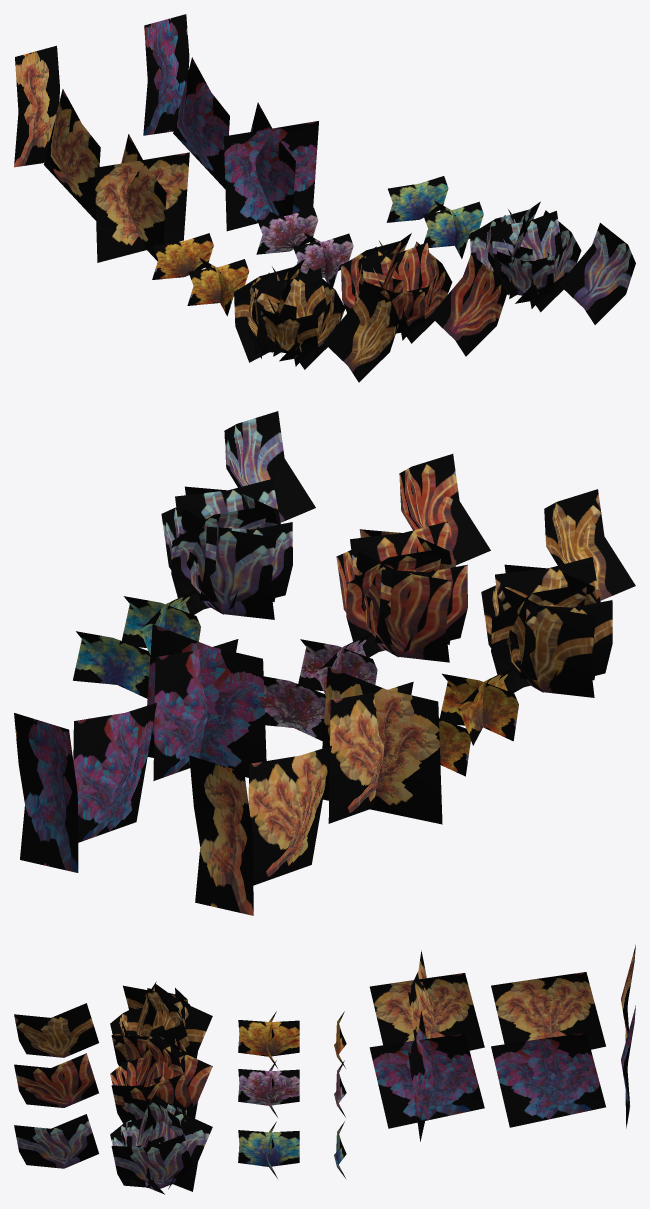
File: AllCorals.fbx
The picture shows the model from 3 angles, top to bottom: view 1: azimuth 30°, elevation 25°; view 2: azimuth 150°, elevation 25°; view 3: azimuth 270°, elevation 25°; orthographic projection. The views are drawn at different scales.
Visible parts, largest first — view 1: soft coral 1_Yellow, soft coral 1_purple, anoneme_yellow, anoneme_Blue, anoneme_Red, soft coral 1 Single_purple, soft coral 1 Single_Yellow, anoneme Single_Red, anoneme Single_yellow, anoneme Single_Blue, soft coral 1 Sheet_Yellow, soft coral 1 Sheet_purple (+6 smaller); view 2: soft coral 1_Yellow, anoneme_yellow, soft coral 1_purple, anoneme_Blue, anoneme_Red, soft coral 1 Sheet_Yellow, soft coral 1 Sheet_purple, soft coral 1 Single_Yellow, soft coral 1 Single_purple, anoneme Single_yellow, anoneme Single_Red, anoneme Single_Blue (+6 smaller); view 3: soft coral 1_purple, soft coral 1 Sheet_purple, anoneme_Blue, soft coral 1_Yellow, soft coral 1 Sheet_Yellow, anoneme_Red, anoneme_yellow, anoneme Single_Blue, anoneme Single_yellow, anoneme Single_Red, soft coral 2_purple, soft coral 2_Blue (+3 smaller).
Boxes of the visible parts, left/top/right/bottom form: soft coral 1_Yellow: left=94, top=134, right=189, bottom=262; soft coral 1_purple: left=224, top=102, right=318, bottom=231; anoneme_yellow: left=234, top=259, right=345, bottom=369; anoneme_Blue: left=470, top=201, right=581, bottom=312; anoneme_Red: left=341, top=233, right=452, bottom=343; soft coral 1 Single_purple: left=143, top=14, right=189, bottom=135; soft coral 1 Single_Yellow: left=14, top=45, right=59, bottom=167; anoneme Single_Red: left=430, top=254, right=506, bottom=356; anoneme Single_yellow: left=323, top=280, right=399, bottom=382; anoneme Single_Blue: left=559, top=223, right=635, bottom=324; soft coral 1 Sheet_Yellow: left=44, top=89, right=100, bottom=220; soft coral 1 Sheet_purple: left=173, top=57, right=229, bottom=188; soft coral 1_Yellow: left=322, top=667, right=442, bottom=824; anoneme_yellow: left=481, top=557, right=612, bottom=697; soft coral 1_purple: left=147, top=624, right=266, bottom=780; anoneme_Blue: left=161, top=479, right=292, bottom=619; anoneme_Red: left=336, top=521, right=467, bottom=662; soft coral 1 Sheet_Yellow: left=248, top=745, right=331, bottom=885; soft coral 1 Sheet_purple: left=73, top=703, right=156, bottom=842; soft coral 1 Single_Yellow: left=189, top=755, right=253, bottom=915; soft coral 1 Single_purple: left=14, top=713, right=78, bottom=872; anoneme Single_yellow: left=544, top=489, right=635, bottom=600; anoneme Single_Red: left=399, top=454, right=490, bottom=565; anoneme Single_Blue: left=224, top=411, right=315, bottom=522; soft coral 1_purple: left=369, top=1011, right=484, bottom=1141; soft coral 1 Sheet_purple: left=491, top=1032, right=605, bottom=1127; anoneme_Blue: left=110, top=1092, right=212, bottom=1194; soft coral 1_Yellow: left=369, top=950, right=484, bottom=1050; soft coral 1 Sheet_Yellow: left=491, top=972, right=605, bottom=1049; anoneme_Red: left=110, top=1032, right=212, bottom=1123; anoneme_yellow: left=110, top=981, right=212, bottom=1066; anoneme Single_Blue: left=14, top=1114, right=98, bottom=1168; anoneme Single_yellow: left=14, top=1003, right=98, bottom=1057; anoneme Single_Red: left=14, top=1053, right=98, bottom=1107; soft coral 2_purple: left=238, top=1060, right=299, bottom=1117; soft coral 2_Blue: left=238, top=1121, right=299, bottom=1178.
Bounding box in the file's own units: 308 × 109 × 505.
Materials: 1 (1 with a texture image).
